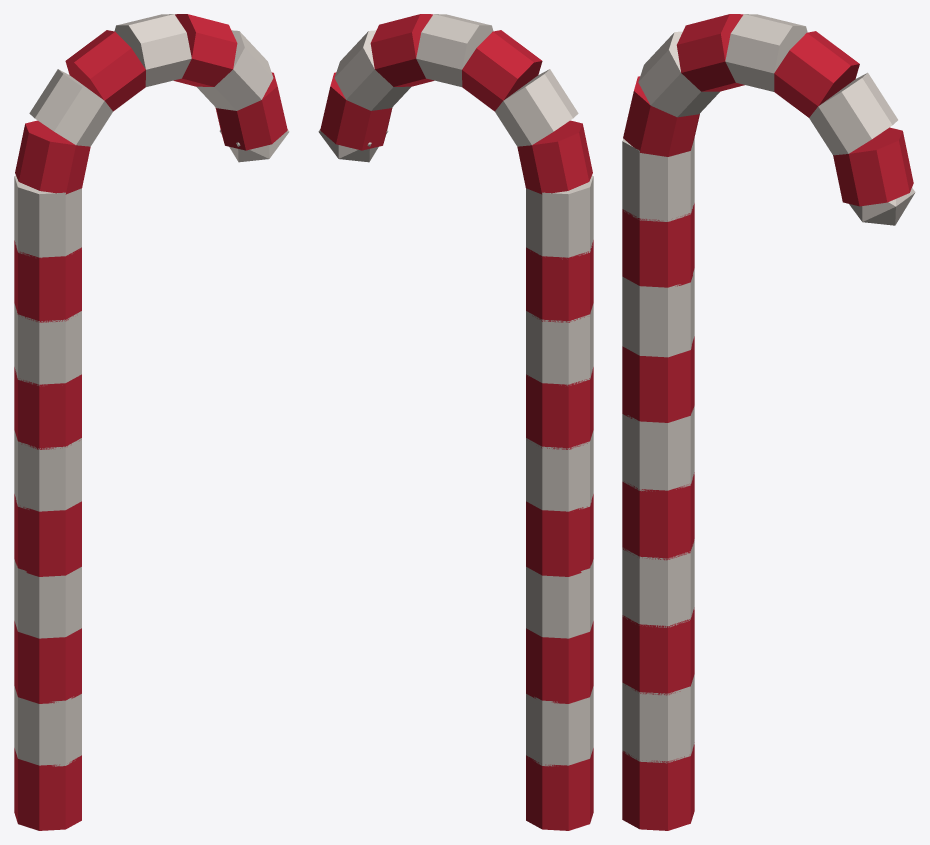
The model's file is candy_cane.glb.
The picture shows the model from 3 angles, left to right: view 1: azimuth 30°, elevation 25°; view 2: azimuth 150°, elevation 25°; view 3: azimuth 330°, elevation 25°; orthographic projection. The views are drawn at different scales.
Visible parts, largest first — view 1: candy_cane; view 2: candy_cane; view 3: candy_cane.
Boxes of the visible parts, x1,y1,x2,y2 form: candy_cane: (14, 14, 289, 830); candy_cane: (318, 14, 593, 830); candy_cane: (622, 14, 915, 830).
Size of the model in its own units: 0.4387 by 1.22 by 0.1.
